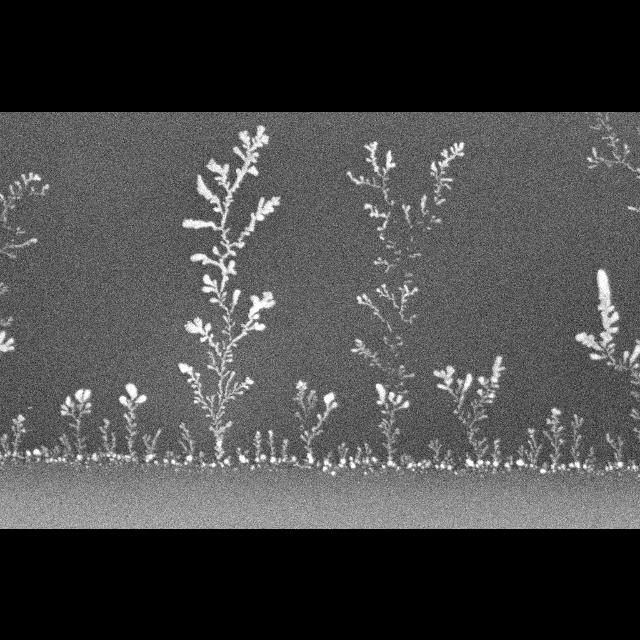dendrites: (178, 124, 280, 460), (434, 356, 504, 467), (575, 268, 640, 384), (0, 172, 49, 257), (293, 379, 338, 467), (346, 140, 396, 205), (376, 383, 409, 471), (117, 382, 147, 463), (430, 141, 464, 205), (61, 388, 91, 459), (543, 407, 564, 466), (351, 337, 387, 370), (398, 283, 419, 323), (356, 293, 385, 321), (604, 433, 625, 470), (177, 421, 195, 464), (569, 413, 583, 467), (364, 202, 391, 230), (524, 427, 542, 467), (11, 413, 26, 461), (100, 418, 117, 460), (142, 428, 162, 462), (375, 282, 399, 308), (401, 453, 431, 470), (59, 432, 72, 463), (582, 445, 596, 472), (429, 438, 441, 468), (362, 442, 378, 464), (373, 256, 394, 272), (0, 329, 15, 351), (266, 429, 276, 462), (199, 450, 217, 468), (252, 430, 262, 461), (440, 449, 455, 469), (384, 335, 404, 350), (338, 441, 349, 467), (402, 202, 413, 228), (490, 438, 500, 466), (322, 449, 333, 471), (0, 433, 10, 457), (49, 444, 62, 462), (515, 444, 525, 466), (236, 446, 249, 462), (420, 193, 429, 216), (41, 444, 50, 462), (281, 438, 288, 461), (627, 458, 638, 471), (354, 446, 362, 463), (629, 407, 640, 419), (0, 315, 13, 325), (33, 448, 42, 460), (557, 463, 572, 470), (505, 455, 513, 468), (0, 281, 8, 294), (633, 426, 640, 439), (540, 461, 548, 472), (98, 446, 106, 457), (430, 214, 441, 222), (349, 455, 355, 468), (224, 455, 231, 465), (630, 390, 640, 397), (171, 458, 180, 465), (165, 449, 174, 456), (409, 252, 421, 257), (92, 452, 99, 460), (26, 450, 31, 461), (404, 372, 414, 377), (290, 455, 297, 462), (217, 460, 224, 467), (379, 232, 385, 240), (404, 271, 413, 276), (163, 457, 170, 463), (260, 453, 266, 460), (85, 452, 91, 459), (387, 323, 392, 331), (398, 389, 407, 393), (250, 464, 255, 470), (398, 364, 404, 369), (399, 369, 405, 374), (154, 459, 159, 464), (369, 466, 374, 471), (316, 460, 320, 466), (381, 463, 385, 469), (404, 279, 412, 282), (394, 249, 400, 253), (386, 244, 394, 247), (393, 257, 400, 260), (331, 470, 335, 475), (278, 457, 282, 462), (396, 335, 400, 339), (410, 235, 413, 240), (1, 451, 3, 458), (363, 471, 367, 474), (417, 221, 423, 223), (387, 240, 392, 242), (427, 226, 430, 229), (407, 246, 409, 250), (94, 456, 94, 456)
